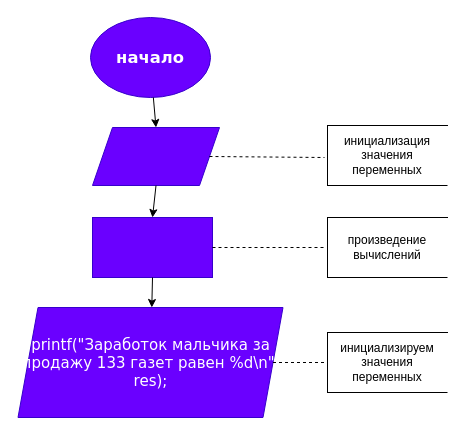
This 466x435 diagram has some shape labels left out. The shapes that lost their labels are listed below. From the top down, each one's centre as x and y in pixels, then its label:
At point (156, 156): "int a = 5; int x = 3;".
At point (152, 247): "int res = 75 * a + (133 - 75) * x;".
